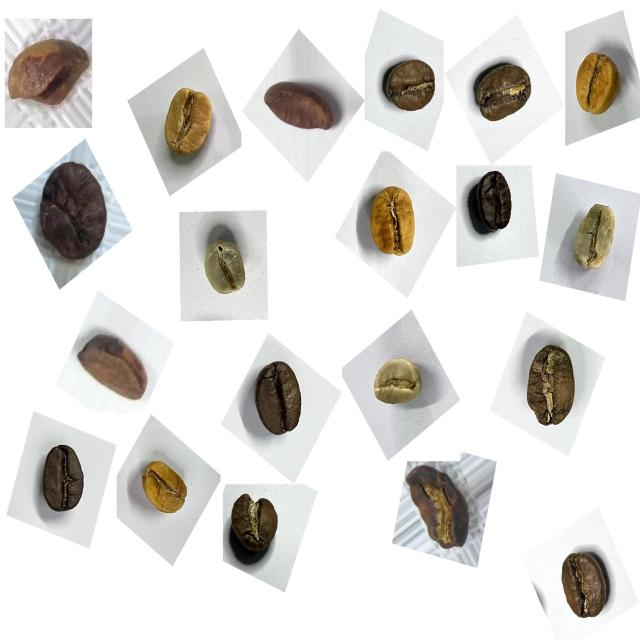bad: (27, 148, 121, 272), (3, 24, 95, 120), (398, 457, 478, 561), (74, 322, 154, 412), (259, 68, 342, 148)
dark: (244, 352, 318, 451), (462, 166, 528, 247)
green: (562, 192, 630, 285), (190, 229, 259, 311), (364, 347, 430, 420)
light: (354, 176, 426, 272), (153, 72, 224, 169), (564, 42, 630, 127), (133, 453, 196, 529)
medium: (513, 336, 590, 440), (547, 544, 619, 633), (29, 437, 97, 527), (466, 54, 540, 135), (222, 485, 291, 568), (378, 50, 444, 124)
